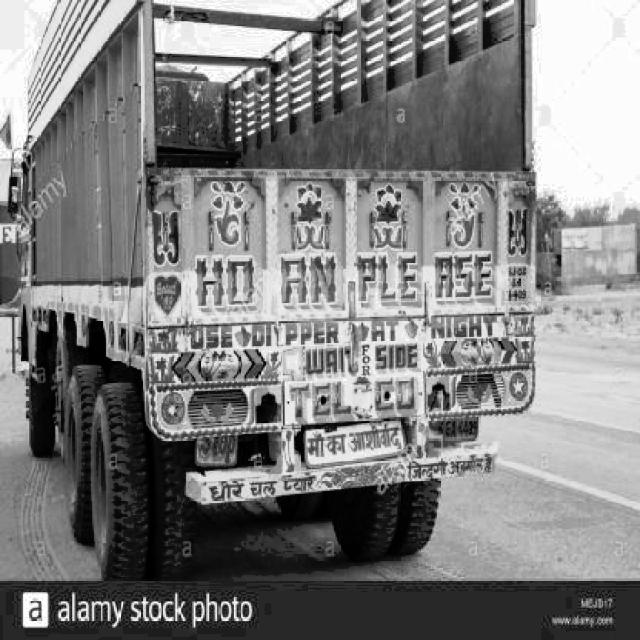HCV: (8, 40, 530, 562)
